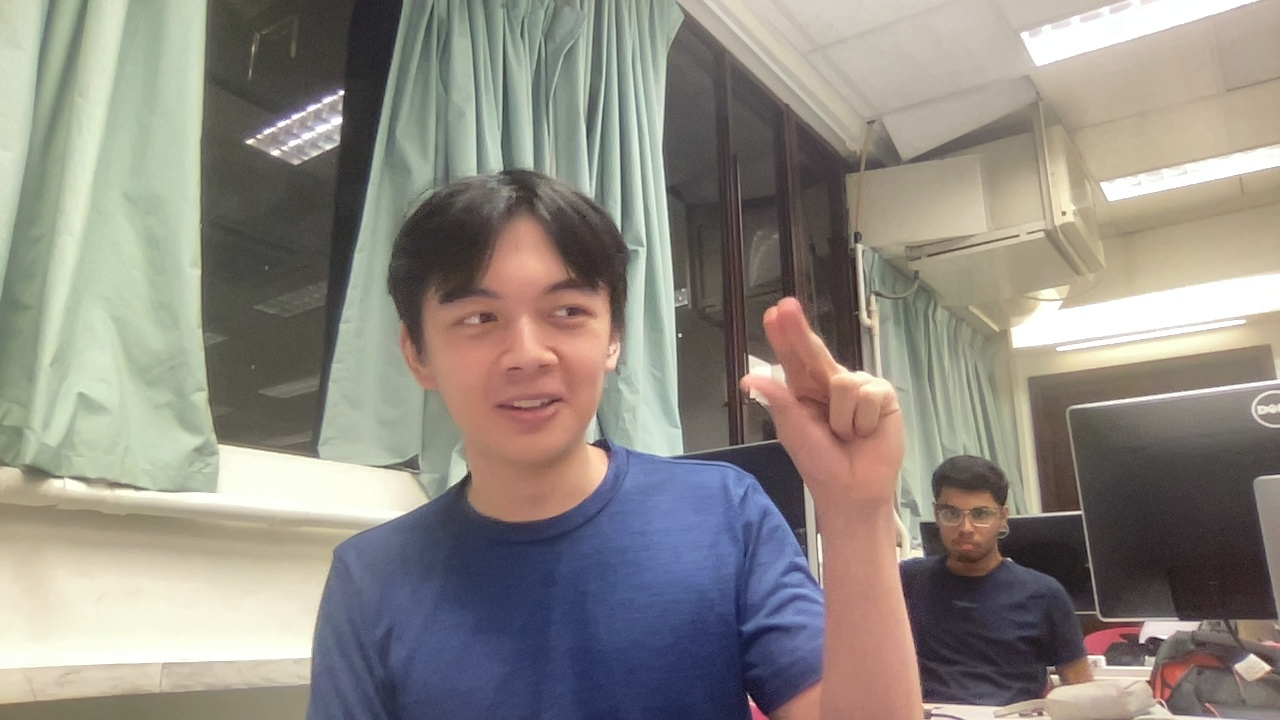no: (705, 278, 977, 528)
